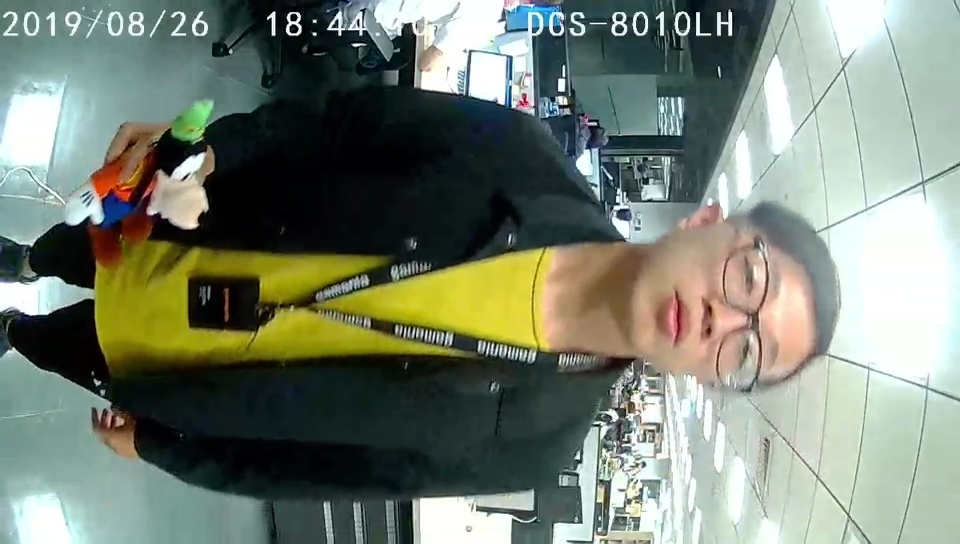goofy: (61, 99, 214, 264)
